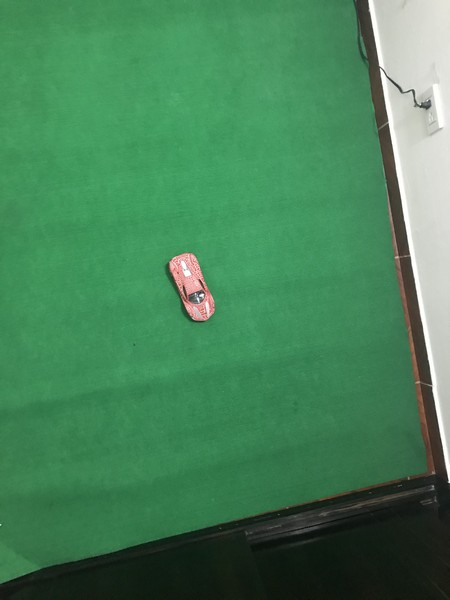RC: (166, 251, 219, 323)
